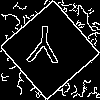Y: (25, 25, 62, 73)
